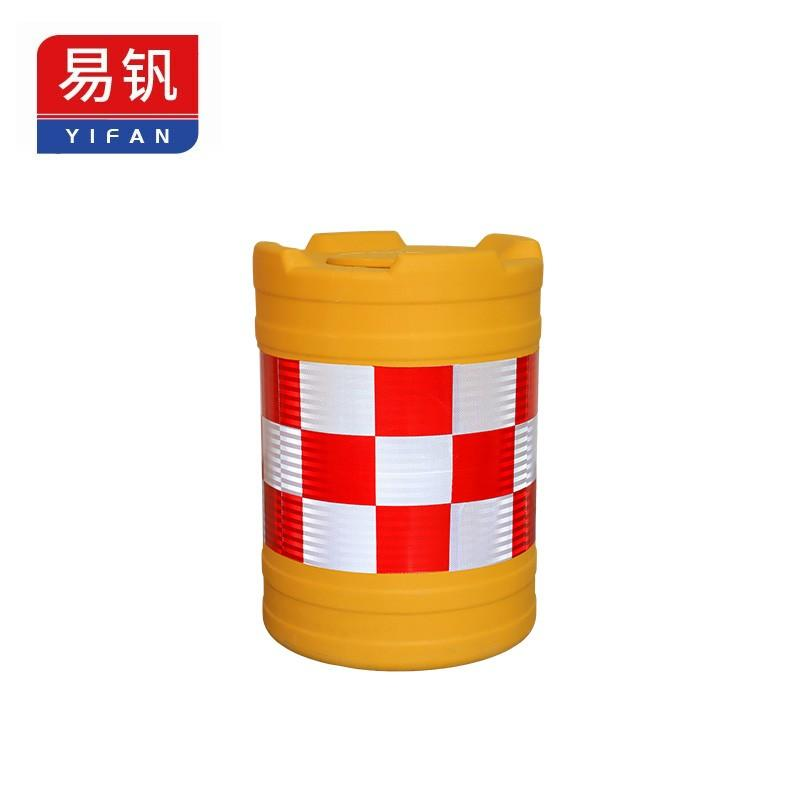sign: (232, 206, 574, 680)
